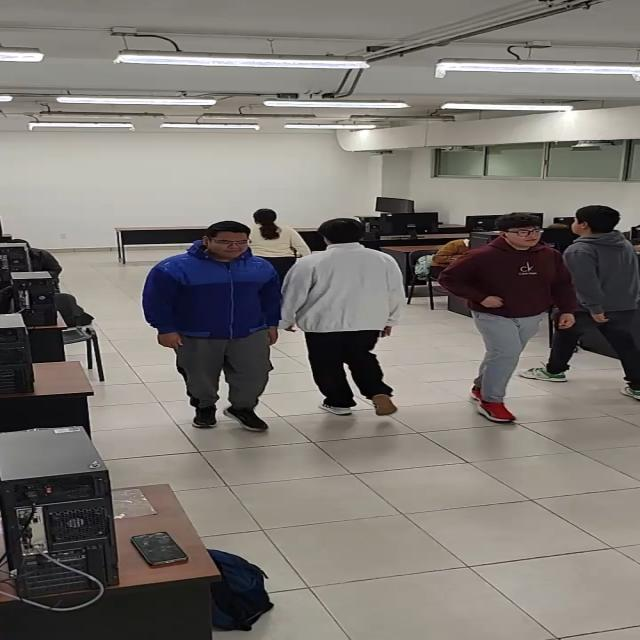Persona: (141, 220, 279, 437), (438, 210, 560, 428), (291, 219, 405, 425), (558, 198, 639, 403), (247, 202, 306, 272)
